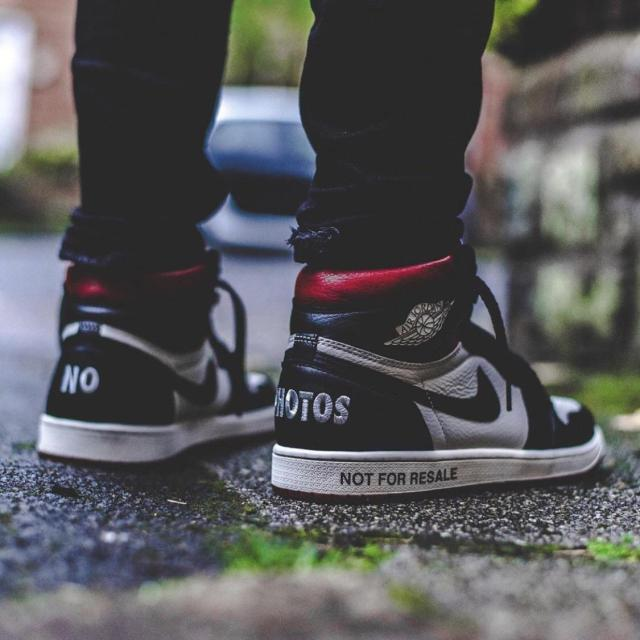shoe: (264, 235, 614, 512), (33, 229, 277, 478)
